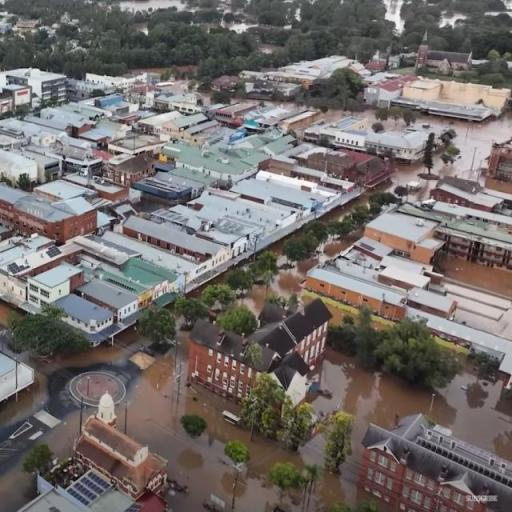flood: (128, 332, 324, 512), (309, 349, 512, 512), (0, 329, 143, 425), (418, 111, 512, 192), (268, 226, 364, 304), (320, 161, 438, 224), (435, 251, 512, 300), (0, 464, 33, 512), (47, 409, 79, 456), (238, 285, 266, 315), (119, 0, 186, 12), (384, 0, 406, 33), (385, 0, 406, 33), (440, 10, 469, 27), (0, 303, 16, 328), (322, 109, 353, 121), (223, 24, 257, 33), (258, 101, 299, 107), (142, 68, 163, 76), (180, 65, 195, 72), (232, 96, 248, 102), (199, 89, 208, 96), (298, 105, 306, 109)
house: (20, 416, 182, 510), (363, 412, 510, 510), (240, 298, 332, 420), (305, 245, 431, 327), (56, 273, 148, 339), (24, 181, 105, 245), (191, 322, 252, 406), (370, 211, 442, 270), (443, 222, 512, 276), (434, 179, 510, 222), (26, 260, 82, 306), (6, 66, 67, 108), (0, 346, 35, 410), (105, 152, 150, 188), (0, 73, 32, 114), (485, 141, 511, 185), (396, 136, 421, 164), (333, 128, 366, 149), (210, 246, 232, 268), (164, 119, 181, 136)
